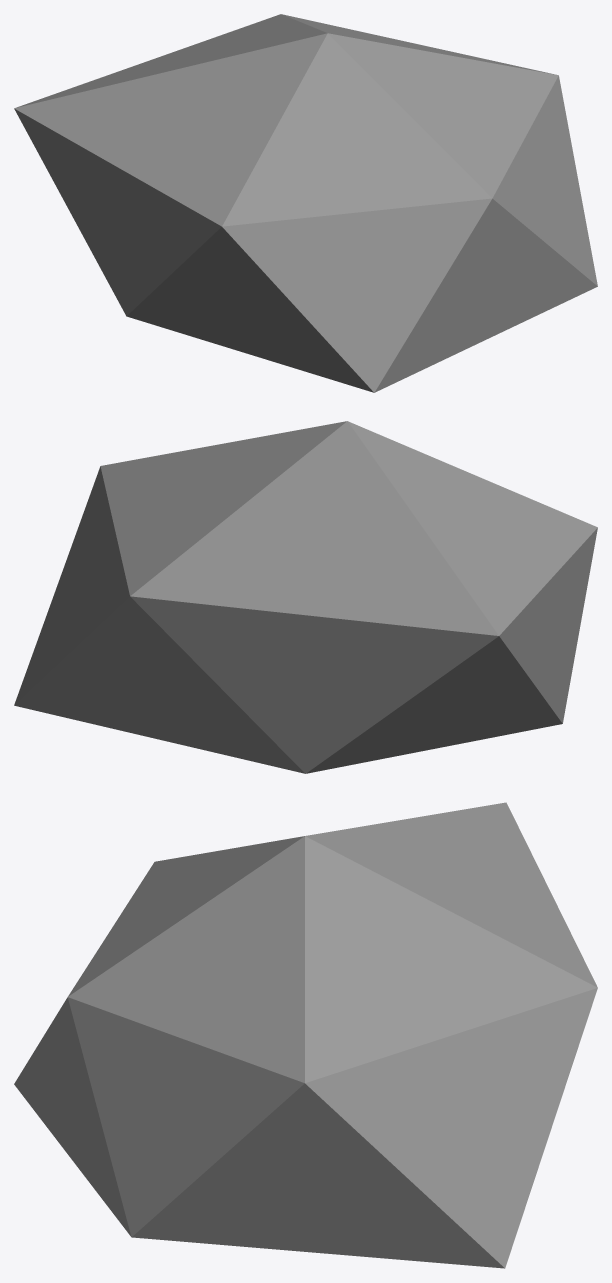
The model's file is pebble.fbx.
3 renders of one model, top to bottom at view 1: azimuth 30°, elevation 25°; view 2: azimuth 150°, elevation 25°; view 3: azimuth 270°, elevation 25°, orthographic. The views are drawn at different scales.
Parts seen in each view (by area): view 1: Pebble; view 2: Pebble; view 3: Pebble.
Part boxes in pixels (left/top/right/bottom): Pebble: left=14, top=14, right=597, bottom=392; Pebble: left=14, top=421, right=597, bottom=773; Pebble: left=14, top=802, right=597, bottom=1268.
Bounding box in the file's own units: 0.2031 × 0.1347 × 0.1911.
1 material, 1 textured.
